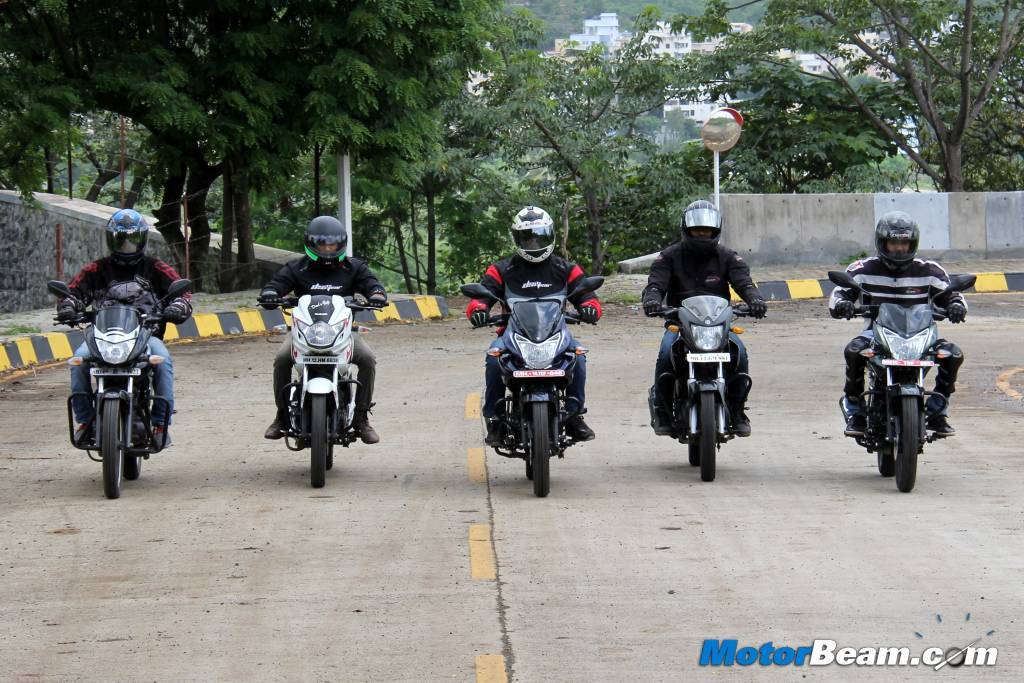helmet: (101, 207, 151, 263), (304, 212, 346, 266), (508, 208, 550, 262), (680, 196, 722, 250), (874, 212, 916, 266)
